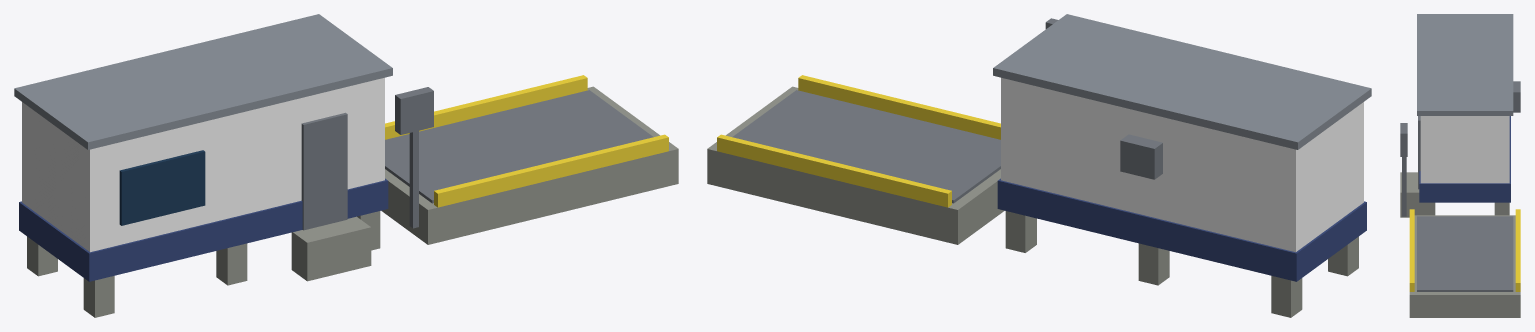
The model's file is site_office.fbx.
3 renders of one model, left to right at view 1: azimuth 30°, elevation 25°; view 2: azimuth 150°, elevation 25°; view 3: azimuth 270°, elevation 25°, orthographic. The views are drawn at different scales.
Parts seen in each view (by area): view 1: a1089/0/site_office; view 2: a1089/0/site_office; view 3: a1089/0/site_office.
Part boxes in pixels (x1,y1,x2,y2): a1089/0/site_office: [14, 14, 678, 317]; a1089/0/site_office: [707, 14, 1371, 317]; a1089/0/site_office: [1400, 14, 1520, 317].
Bounding box in the file's own units: 11.9 × 3.5 × 3.25.
